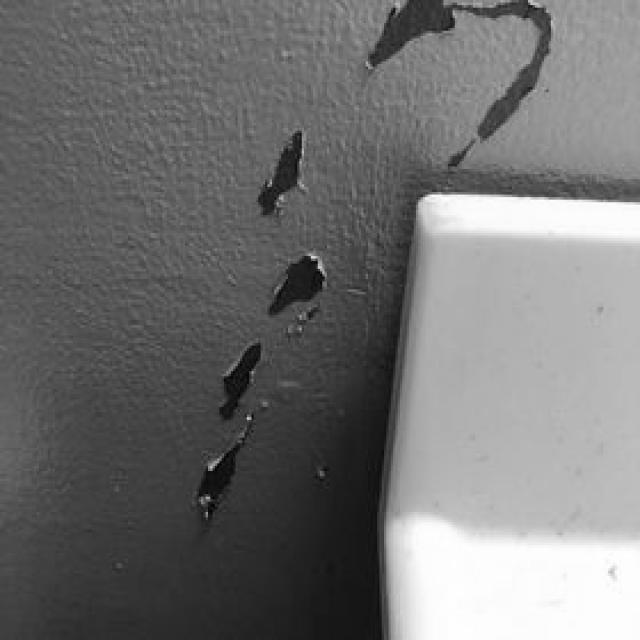peeling paint: (154, 0, 564, 571)
